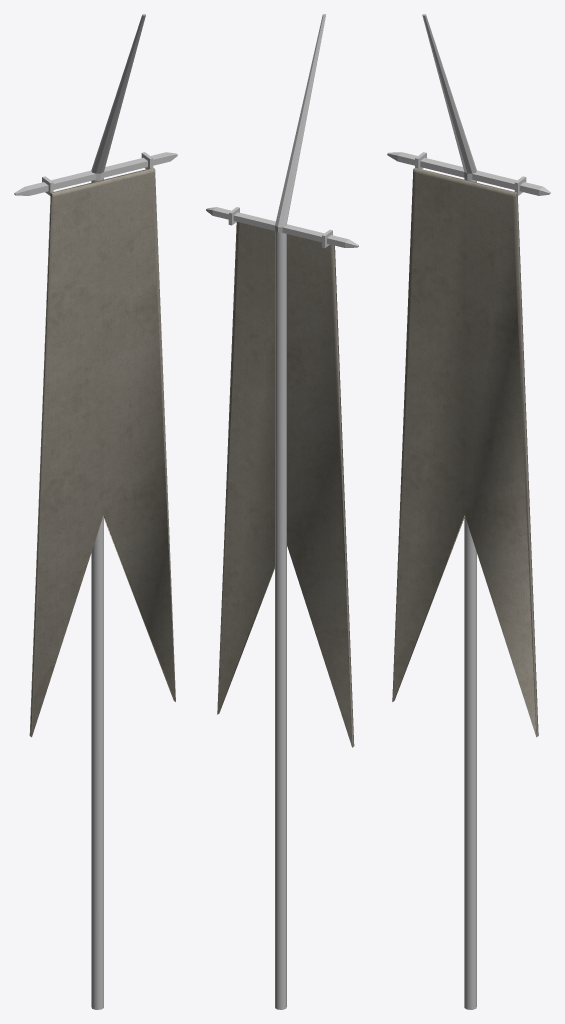
The model's file is MedievalBanner.fbx.
The picture shows the model from 3 angles, left to right: view 1: azimuth 30°, elevation 25°; view 2: azimuth 150°, elevation 25°; view 3: azimuth 330°, elevation 25°; orthographic projection. The views are drawn at different scales.
Visible parts, largest first — view 1: Banner; view 2: Banner; view 3: Banner.
Boxes of the visible parts, x1=… form: Banner: x1=14, y1=14, x2=177, y2=1009; Banner: x1=206, y1=14, x2=358, y2=1009; Banner: x1=387, y1=14, x2=550, y2=1009.
Bounding box in the file's own units: 57.4 × 348 × 31.76.
